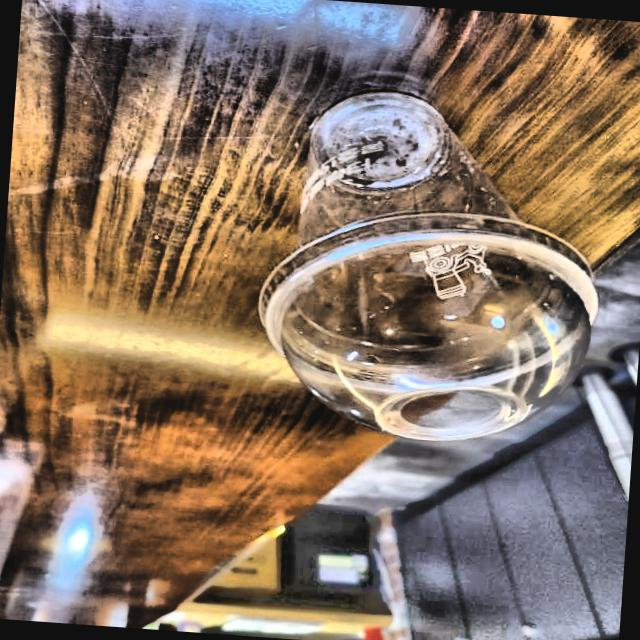plastic cup: (199, 34, 638, 484)
